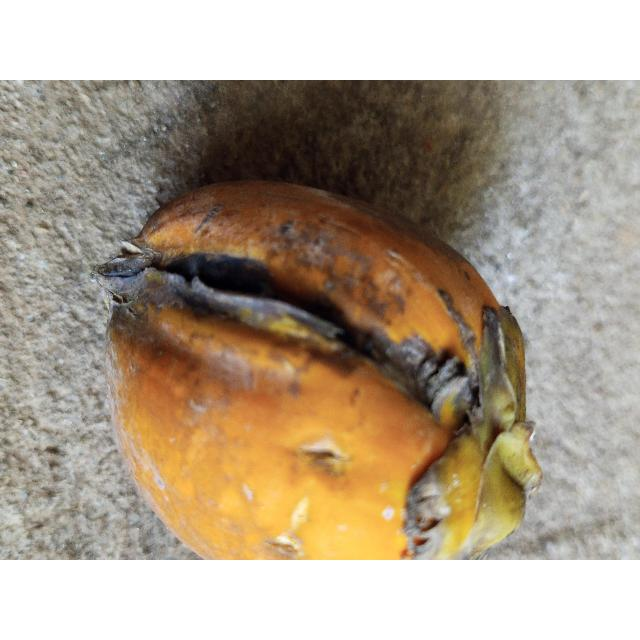damaged: (96, 181, 542, 560)
